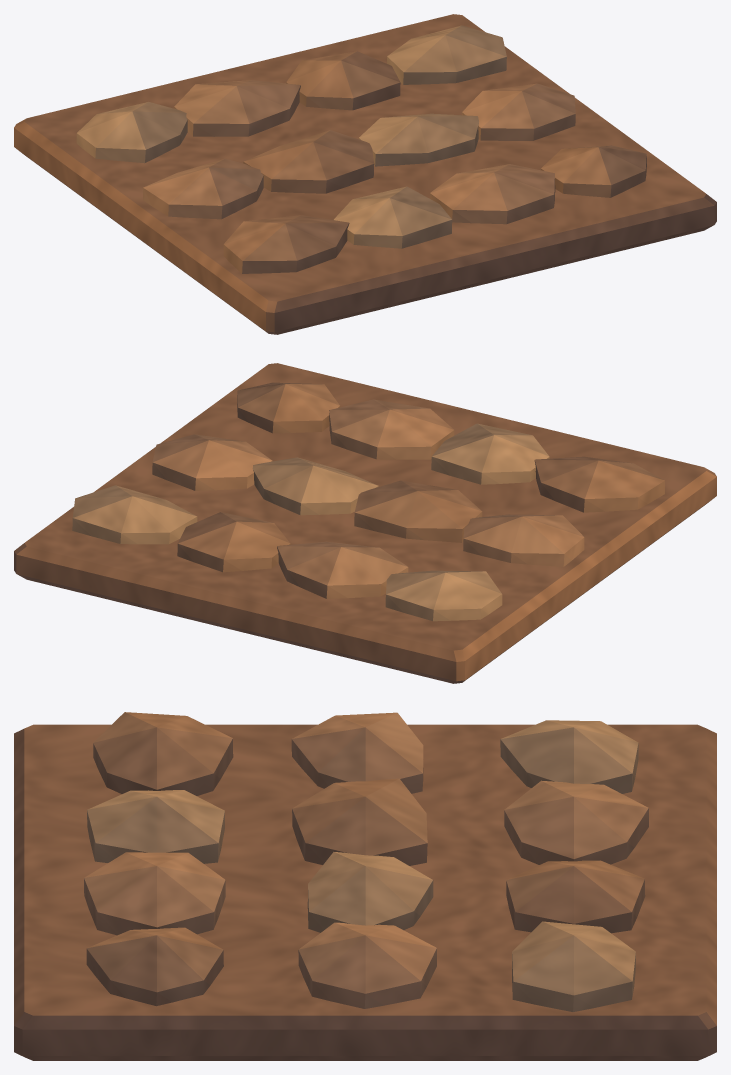
Rendered from soil.glb.
The picture shows the model from 3 angles, top to bottom: view 1: azimuth 30°, elevation 25°; view 2: azimuth 150°, elevation 25°; view 3: azimuth 270°, elevation 25°; orthographic projection. The views are drawn at different scales.
Parts seen in each view (by area): view 1: Beet · Erde und Saatreihen; view 2: Beet · Erde und Saatreihen; view 3: Beet · Erde und Saatreihen.
Part boxes in pixels (x1=…): Beet · Erde und Saatreihen: x1=14, y1=14, x2=716, y2=334; Beet · Erde und Saatreihen: x1=14, y1=363, x2=716, y2=683; Beet · Erde und Saatreihen: x1=14, y1=712, x2=716, y2=1060.
Bounding box in the file's own units: 1.15 × 0.16 × 1.14.
Materials: 1 (1 with a texture image).
